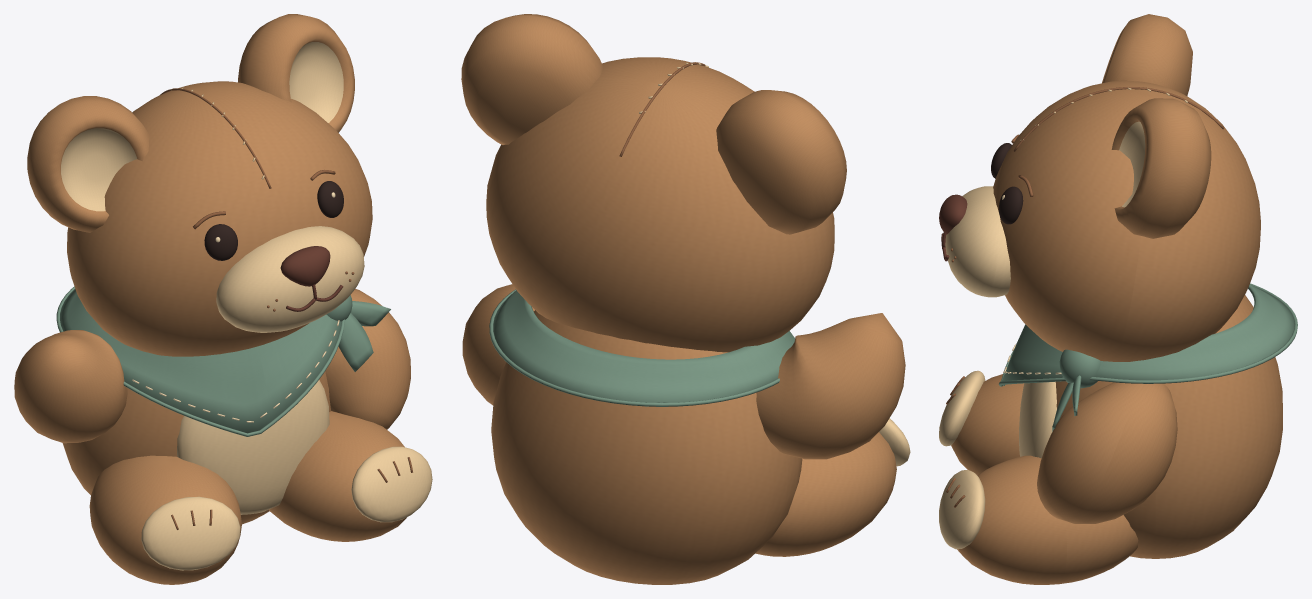
The model's file is SM_BunkerTeddyBear.fbx.
3 views of the same model, side by side, from view 1: azimuth 30°, elevation 25°; view 2: azimuth 150°, elevation 25°; view 3: azimuth 270°, elevation 25° (orthographic). The views are drawn at different scales.
Parts seen in each view (by area): view 1: SM_BunkerTeddyBear; view 2: SM_BunkerTeddyBear; view 3: SM_BunkerTeddyBear.
Boxes of the visible parts, x1=… form: SM_BunkerTeddyBear: x1=14, y1=14, x2=432, y2=584; SM_BunkerTeddyBear: x1=461, y1=14, x2=910, y2=584; SM_BunkerTeddyBear: x1=939, y1=14, x2=1297, y2=584.
Bounding box in the file's own units: 48.95 × 38.87 × 57.19.
Materials: 1 (1 with a texture image).
